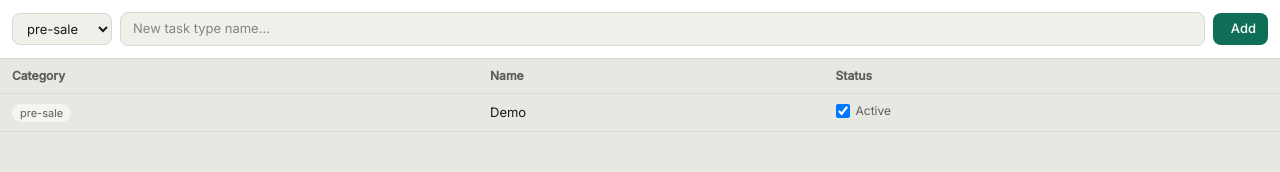
TaskTypesPanel › shows an inline validation error when submitting the new task type form with an empty name
Expected: the button "Demo" is shown, top-left (490, 102), bottom-right (526, 122)
Click the button "Add".
click(1240, 29)  # box top-left (1213, 13), bottom-right (1268, 44)
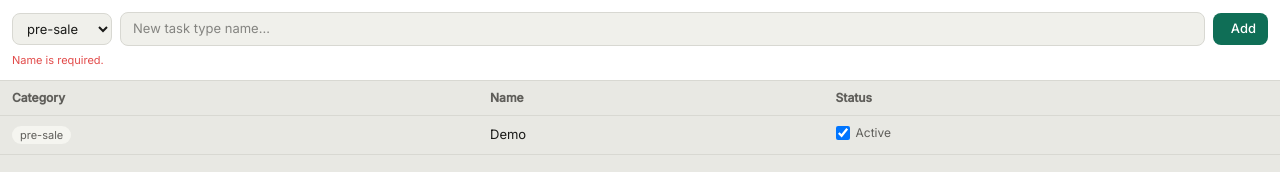
Now the text "Name is required." is shown, box top-left (12, 52), bottom-right (104, 66)
